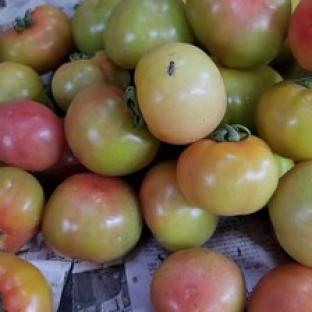Tomato: (134, 42, 227, 144), (42, 172, 143, 263), (177, 126, 278, 215), (65, 84, 160, 175), (140, 161, 218, 250), (151, 247, 246, 311), (0, 5, 73, 73), (255, 77, 311, 161), (0, 99, 65, 171), (52, 51, 130, 111), (268, 161, 311, 266), (219, 66, 282, 133), (0, 166, 44, 252), (248, 262, 311, 311), (0, 253, 52, 311), (0, 62, 48, 104), (92, 51, 132, 89), (275, 154, 295, 176)
